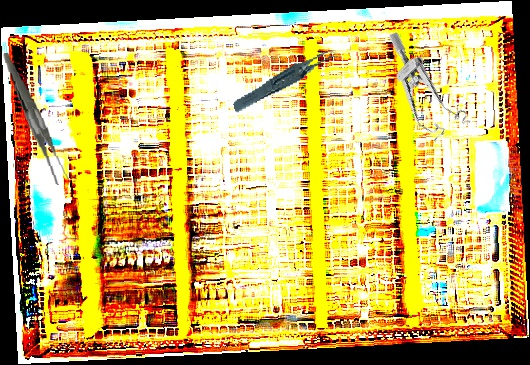Dressing Forceps: (2, 48, 70, 189)
Speculum: (358, 30, 480, 151)
Tissue Forceps: (226, 48, 348, 114)
